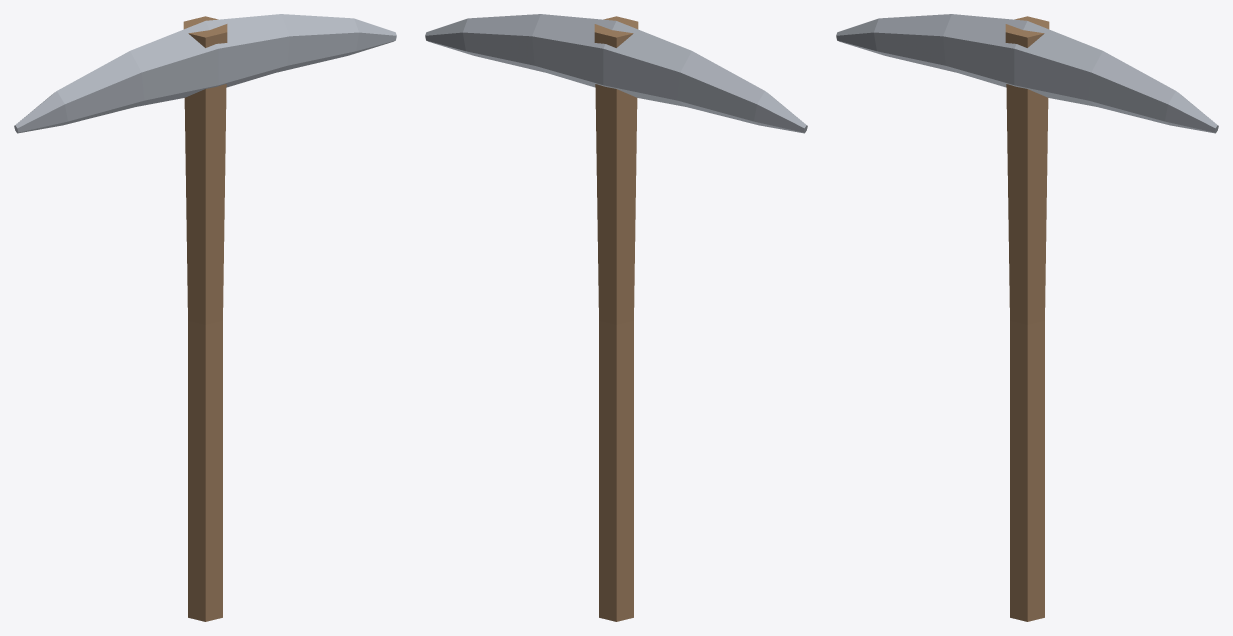
The model's file is pickaxe.glb.
The picture shows the model from 3 angles, left to right: view 1: azimuth 30°, elevation 25°; view 2: azimuth 150°, elevation 25°; view 3: azimuth 330°, elevation 25°; orthographic projection.
Parts seen in each view (by area): view 1: Pickaxe; view 2: Pickaxe; view 3: Pickaxe.
Boxes of the visible parts, box(x1,y1,x2,y2) form: Pickaxe: box(14, 14, 396, 621); Pickaxe: box(425, 14, 807, 621); Pickaxe: box(836, 14, 1218, 621).
Bounding box in the file's own units: 0.5227 × 0.778 × 0.0624.
